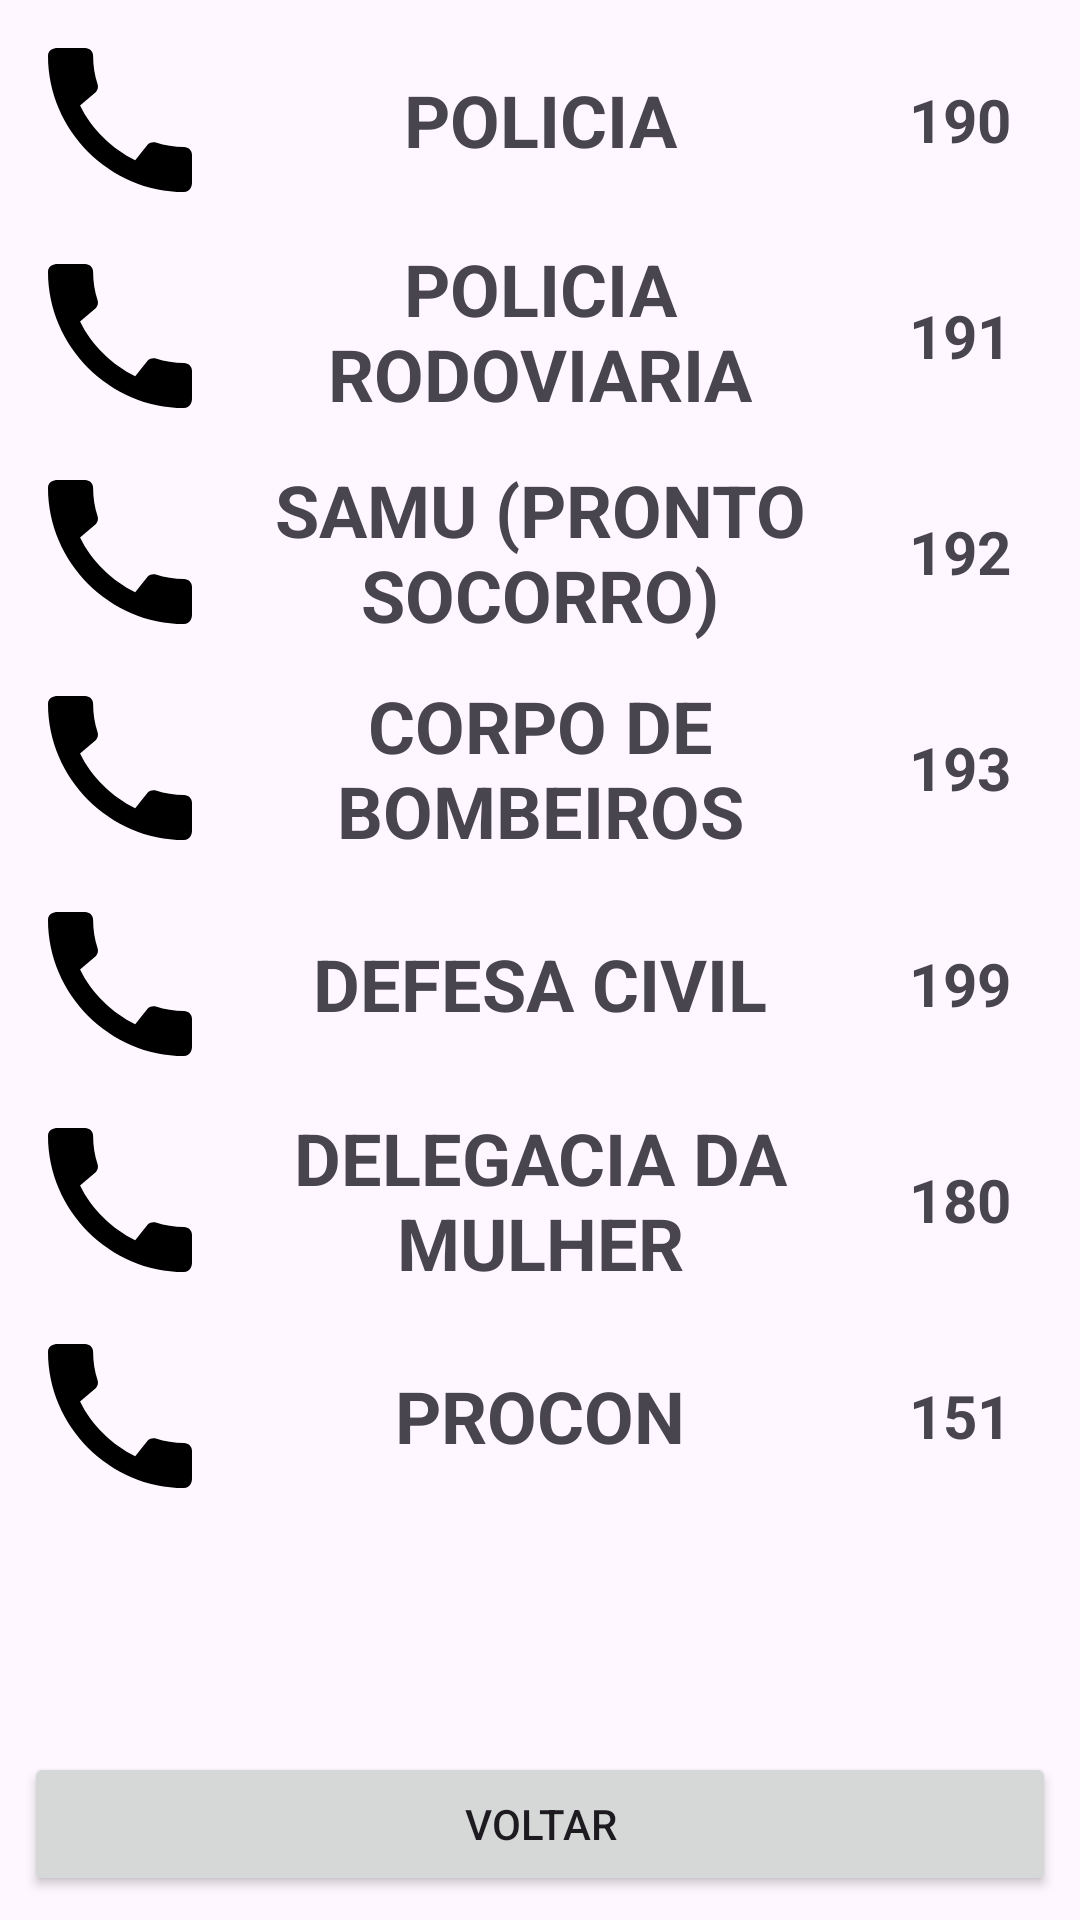

Icons on this 1080w x 1920h Android screen, each with its box as (x1, y1, x2, y2):
phone call: (48, 48, 192, 192), (48, 264, 192, 408), (48, 480, 192, 624), (48, 696, 192, 840), (48, 912, 192, 1056), (48, 1128, 192, 1272), (48, 1344, 192, 1488)
